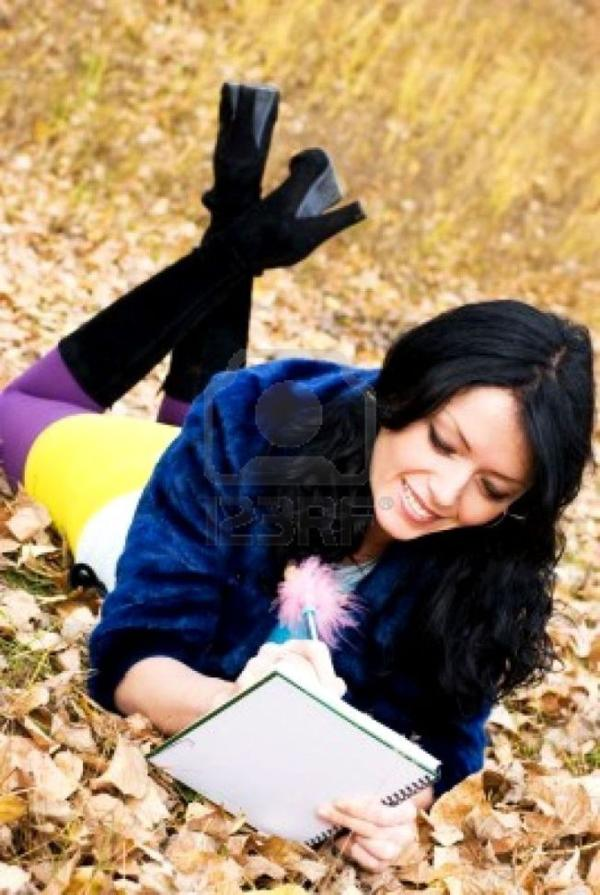person: (4, 83, 594, 868)
